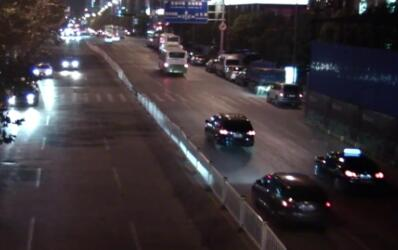bus: (157, 45, 188, 74), (156, 31, 181, 54), (144, 28, 159, 47), (101, 31, 114, 43)
car: (251, 172, 336, 231), (315, 147, 387, 191), (203, 112, 255, 151), (247, 58, 286, 94), (265, 81, 305, 108), (5, 82, 40, 109), (214, 53, 243, 78), (187, 49, 209, 68), (223, 63, 245, 82), (58, 54, 81, 71), (30, 61, 53, 77), (205, 57, 220, 71), (111, 31, 120, 41)
